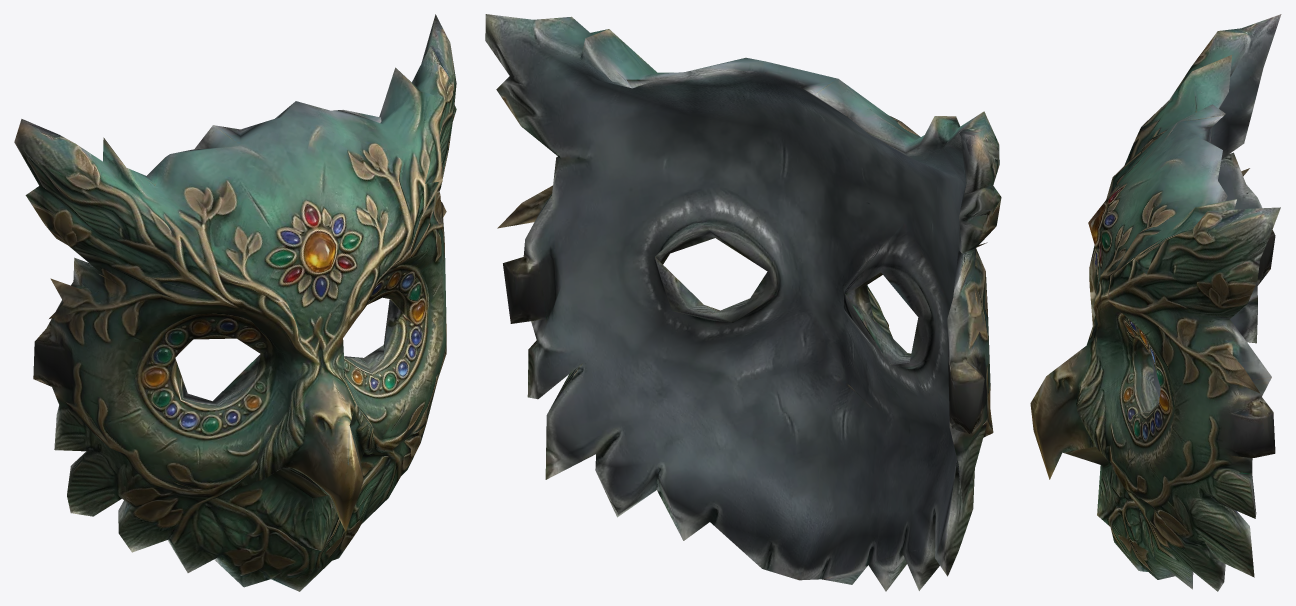
File: mask-owl.glb
The picture shows the model from 3 angles, left to right: view 1: azimuth 30°, elevation 25°; view 2: azimuth 150°, elevation 25°; view 3: azimuth 270°, elevation 25°; orthographic projection. The views are drawn at different scales.
Visible parts, largest first — view 1: Mesh1.0; view 2: Mesh1.0; view 3: Mesh1.0.
Part boxes in pixels (x1,y1,x2,y2): Mesh1.0: (14,14,456,591); Mesh1.0: (485,14,1001,591); Mesh1.0: (1030,14,1281,591).
Bounding box in the file's own units: 1.82 × 1.91 × 0.9397.
Materials: 1 (1 with a texture image).
